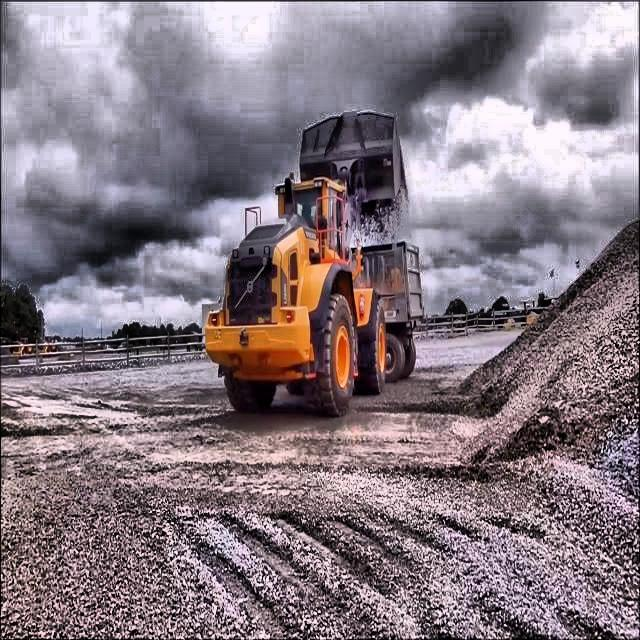bull_dozer/loader/grader: (204, 110, 403, 419)
dump_truck: (346, 241, 424, 381)
